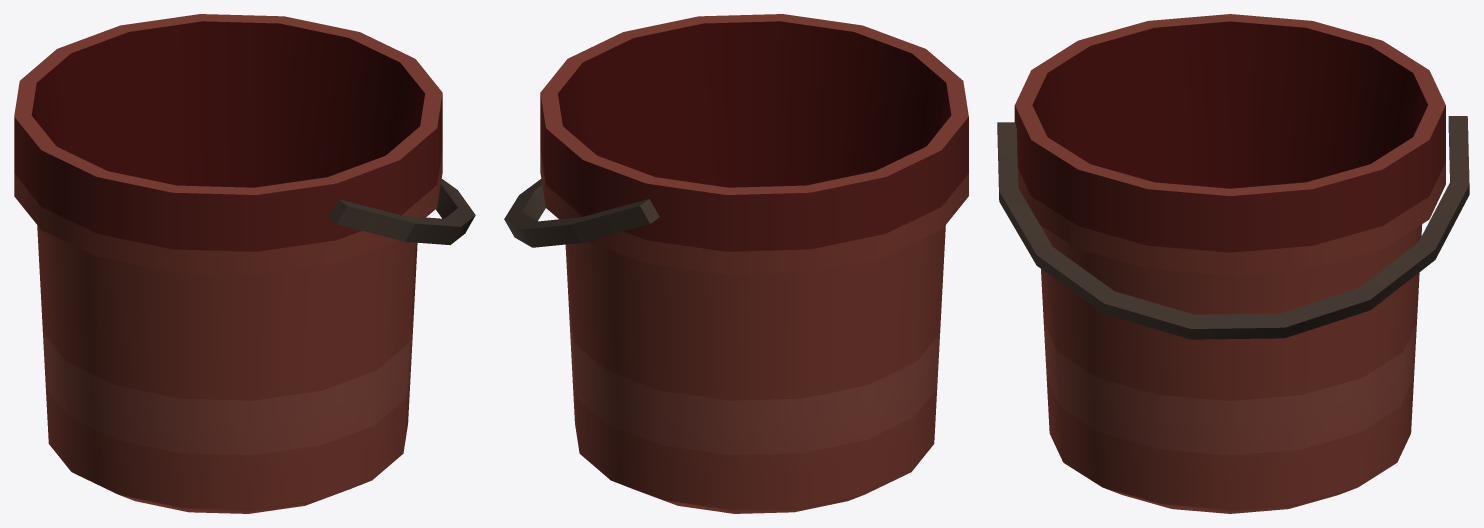
File: SM_Bucket_03.fbx
3 views of the same model, side by side, from view 1: azimuth 30°, elevation 25°; view 2: azimuth 150°, elevation 25°; view 3: azimuth 270°, elevation 25° (orthographic).
Parts seen in each view (by area): view 1: SM_Bucket_03; view 2: SM_Bucket_03; view 3: SM_Bucket_03.
Part boxes in pixels (x1,y1,x2,y2): SM_Bucket_03: (14,14,475,513); SM_Bucket_03: (504,14,968,513); SM_Bucket_03: (997,14,1469,513).
Size of the model in its own units: 0.5113 by 0.425 by 0.5282.
